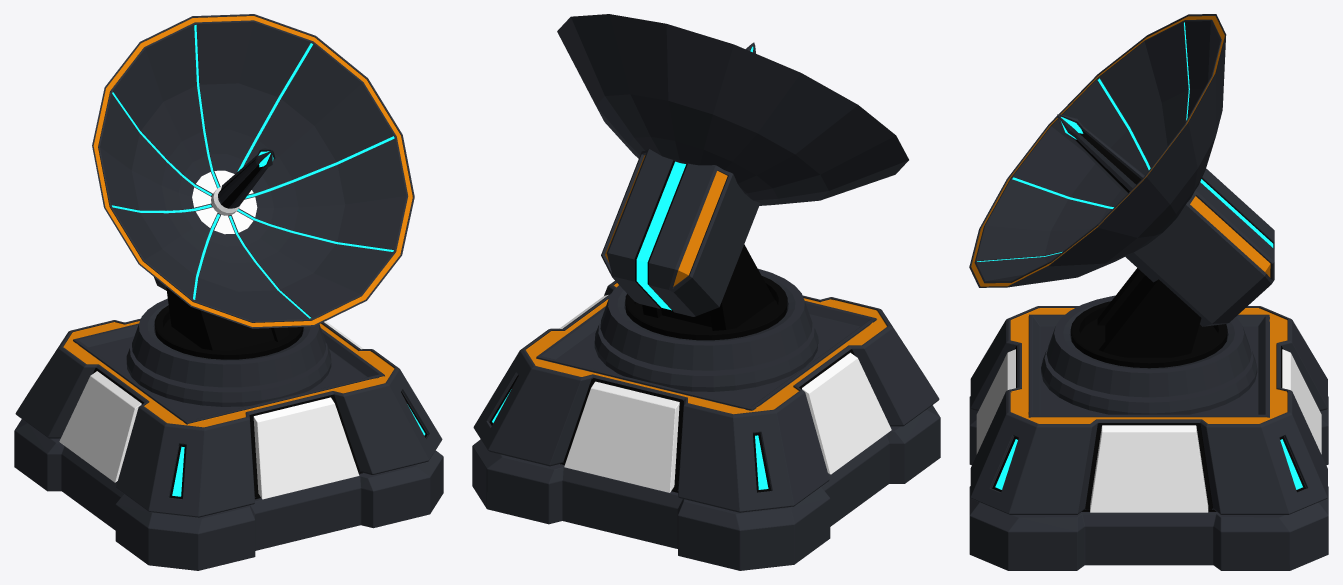
Rendered from SM_Turret_ScanArray.fbx.
3 views of the same model, side by side, from view 1: azimuth 30°, elevation 25°; view 2: azimuth 150°, elevation 25°; view 3: azimuth 270°, elevation 25° (orthographic). The views are drawn at different scales.
Visible parts, largest first — view 1: SM_Turret_ScanArray_Head, SM_Turret_ScanArray_Base; view 2: SM_Turret_ScanArray_Base, SM_Turret_ScanArray_Head; view 3: SM_Turret_ScanArray_Head, SM_Turret_ScanArray_Base.
Part boxes in pixels (box(x1,y1,x2,y2)): SM_Turret_ScanArray_Head: box(92, 14, 414, 406); SM_Turret_ScanArray_Base: box(14, 318, 443, 570); SM_Turret_ScanArray_Base: box(472, 281, 940, 570); SM_Turret_ScanArray_Head: box(557, 14, 908, 391); SM_Turret_ScanArray_Head: box(969, 14, 1274, 414); SM_Turret_ScanArray_Base: box(969, 306, 1328, 570).
Size of the model in its own units: 101 by 142 by 100.
